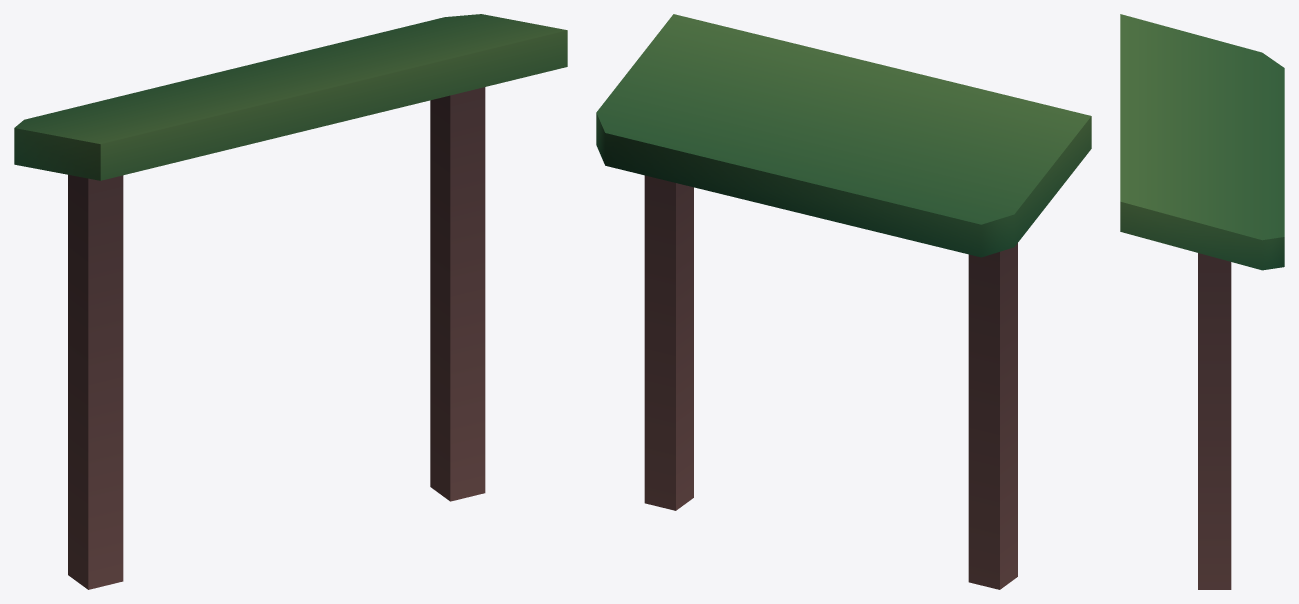
Rendered from detail-awning.glb.
3 renders of one model, left to right at view 1: azimuth 30°, elevation 25°; view 2: azimuth 150°, elevation 25°; view 3: azimuth 270°, elevation 25°, orthographic. The views are drawn at different scales.
Parts seen in each view (by area): view 1: detail-awning; view 2: detail-awning; view 3: detail-awning.
Boxes of the visible parts, box(x1,y1,x2,y2) form: detail-awning: box(14, 14, 567, 589); detail-awning: box(596, 14, 1091, 589); detail-awning: box(1120, 14, 1284, 589).
Size of the model in its own units: 0.4 by 0.4 by 0.1479.
1 material, 1 textured.
